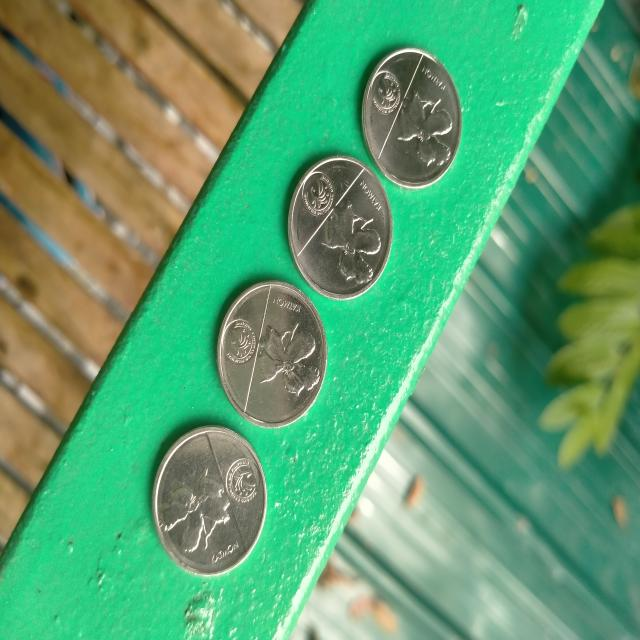25Cent_New_Back: (303, 169, 384, 291), (165, 457, 255, 557)
